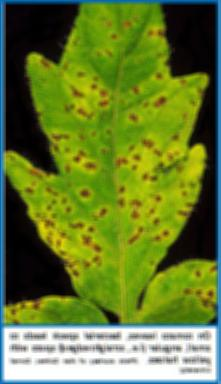Tomato leaf bacterial spot: (6, 6, 211, 322)
